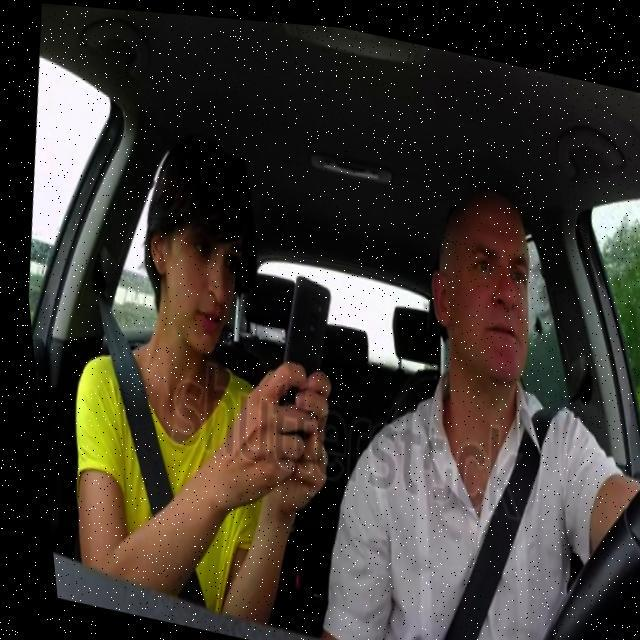PhoneCall: (257, 268, 339, 448)
